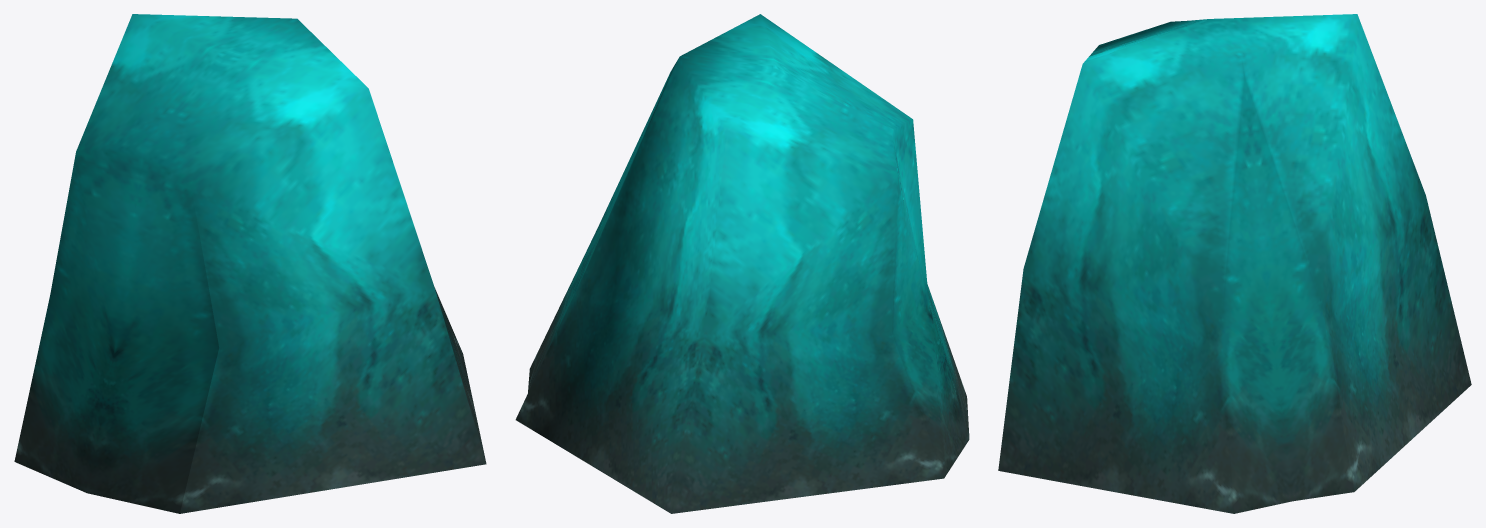
Rendered from icecrown_rock_06.obj.
3 views of the same model, side by side, from view 1: azimuth 30°, elevation 25°; view 2: azimuth 150°, elevation 25°; view 3: azimuth 270°, elevation 25° (orthographic). The views are drawn at different scales.
Parts seen in each view (by area): view 1: icecrown_rock_06; view 2: icecrown_rock_06; view 3: icecrown_rock_06.
Part boxes in pixels (box(x1,y1,x2,y2)): icecrown_rock_06: box(14, 14, 486, 513); icecrown_rock_06: box(515, 14, 969, 513); icecrown_rock_06: box(998, 14, 1471, 513).
Size of the model in its own units: 1.27 by 1.03 by 1.16.
